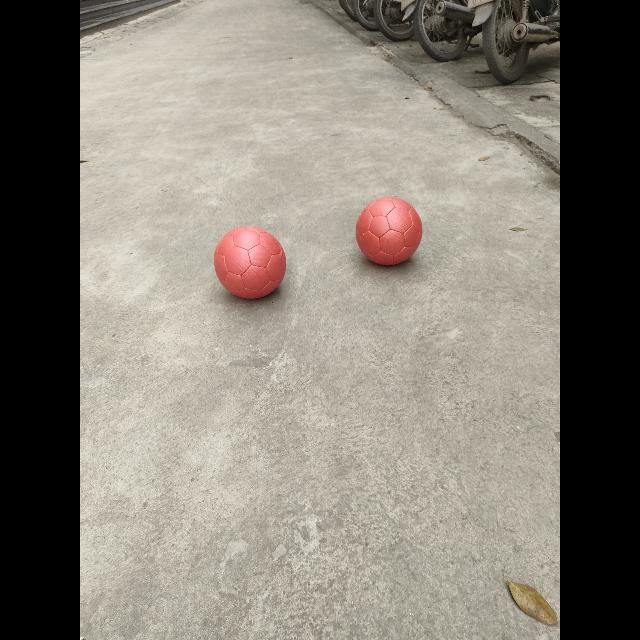R: (214, 227, 286, 300), (356, 198, 422, 266)
